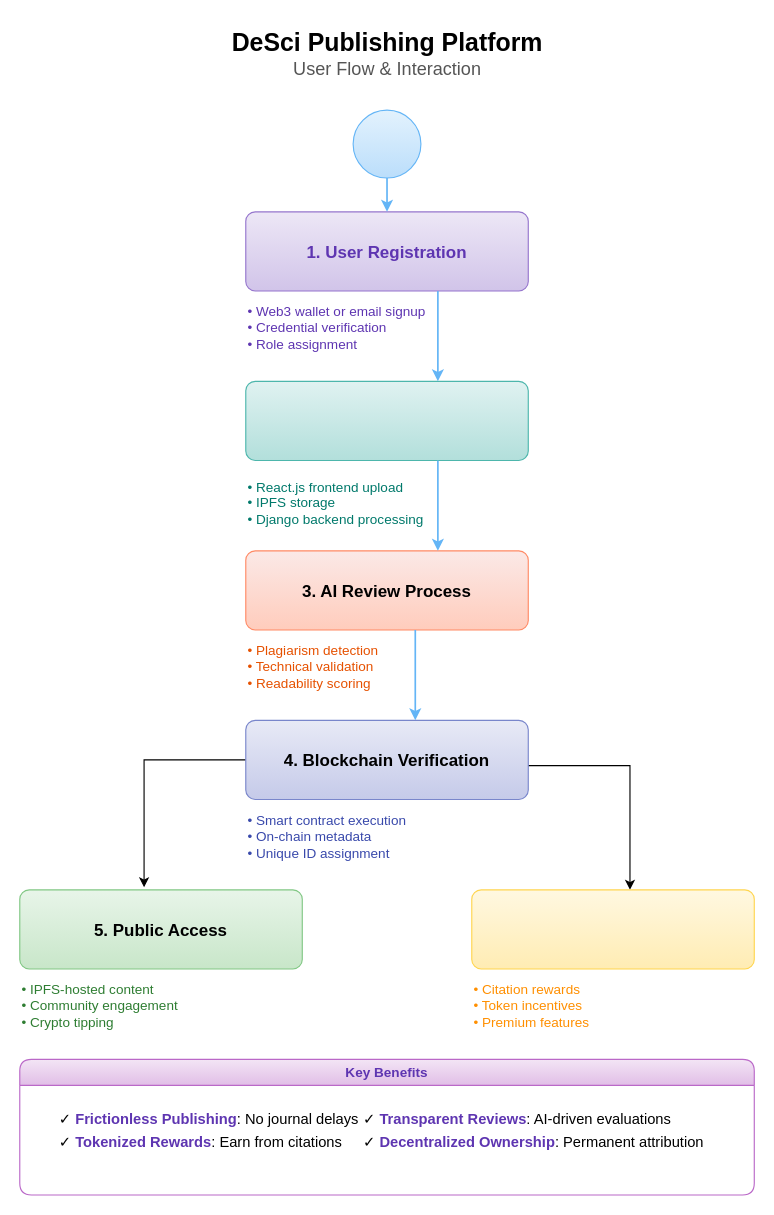
Image size: 774x1215. Some labels were removed from this diagram. Each missing label, with the centre of its shape:
2. Research Submission: the point at 386,420
6. Reward System: the point at 612,929
Start: the point at 386,143
